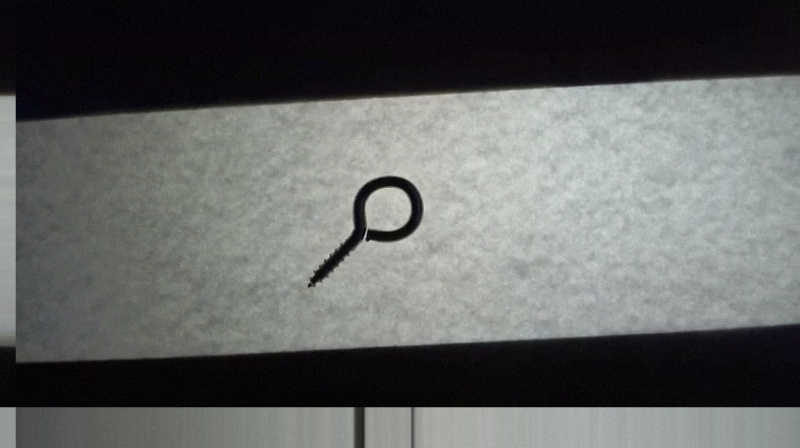O001: (300, 173, 428, 295)
